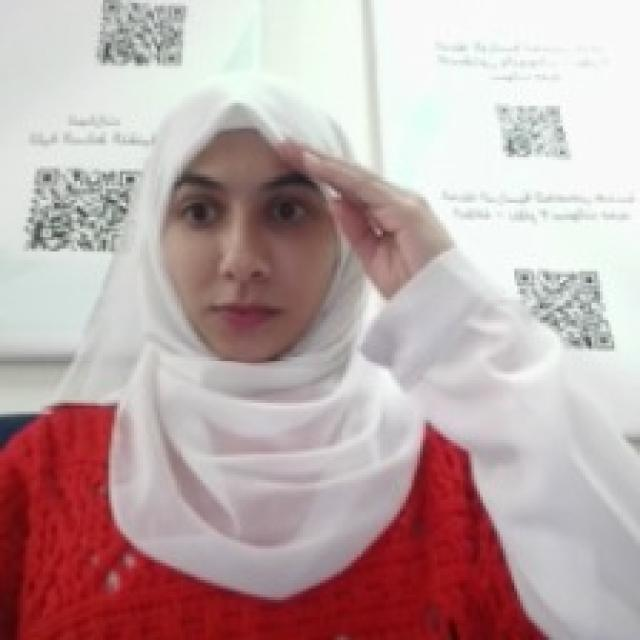Thanks: (266, 123, 451, 303)
